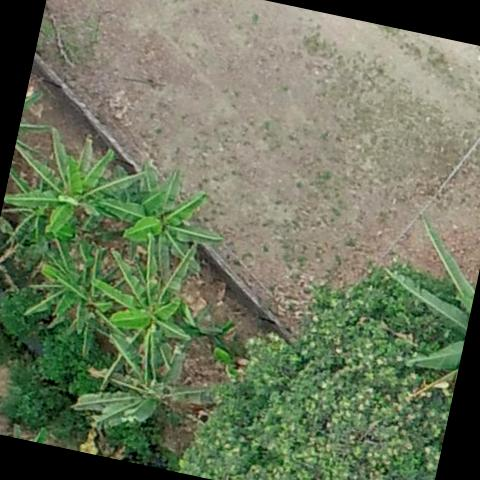Banana-plant: (0, 121, 145, 258), (80, 330, 220, 446), (107, 168, 234, 286), (98, 255, 206, 381), (15, 237, 124, 349)
